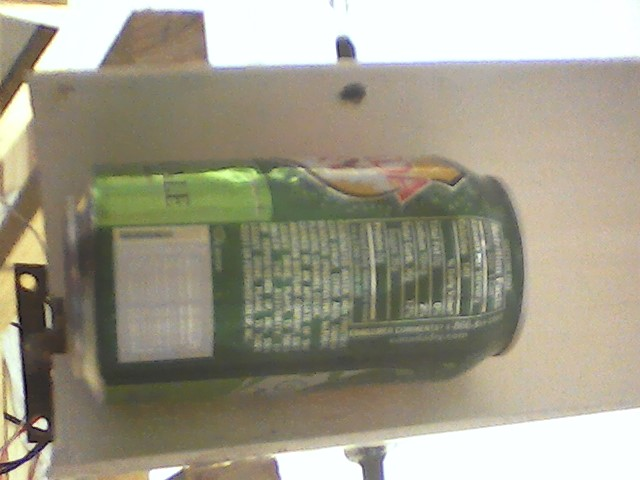lata: (59, 148, 537, 410)
